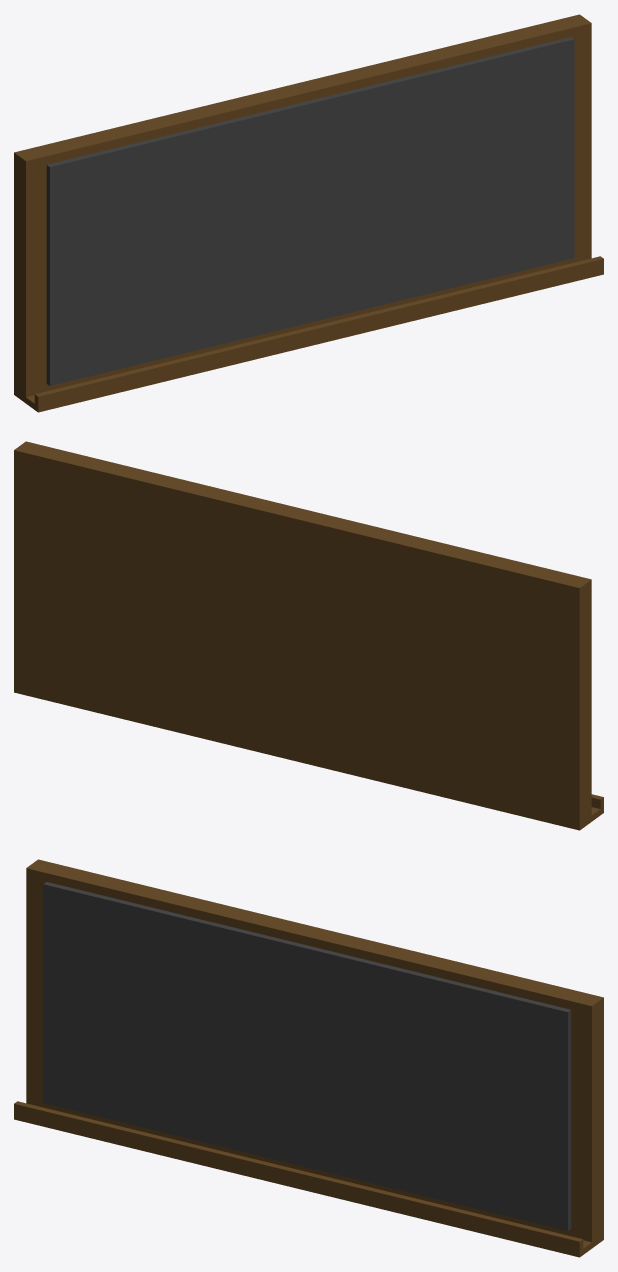
Rendered from blackboard.fbx.
3 renders of one model, top to bottom at view 1: azimuth 30°, elevation 25°; view 2: azimuth 150°, elevation 25°; view 3: azimuth 330°, elevation 25°, orthographic.
Parts seen in each view (by area): view 1: Cube.001, Cube; view 2: Cube; view 3: Cube.001, Cube.
Part boxes in pixels (x1,y1,x2,y2): Cube.001: (46, 37, 574, 385); Cube: (14, 14, 603, 412); Cube: (14, 441, 603, 830); Cube.001: (43, 882, 571, 1230); Cube: (14, 859, 603, 1257).
Bounding box in the file's own units: 972 × 398 × 71.97.
